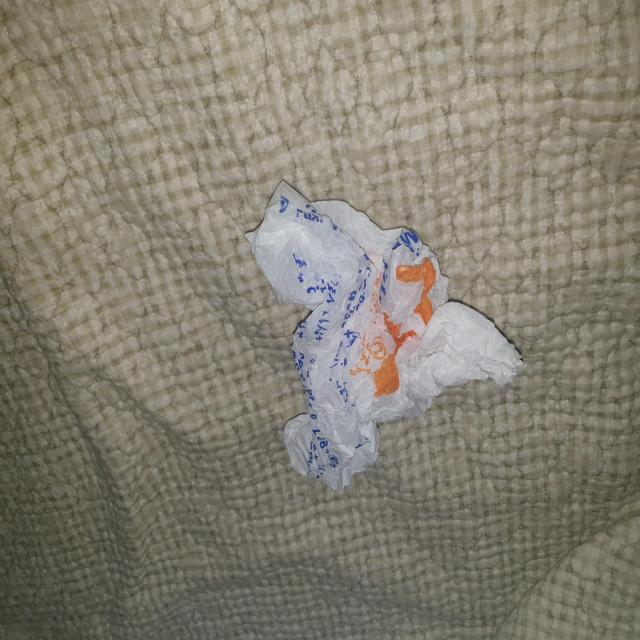plastic bag: (247, 182, 530, 494)
